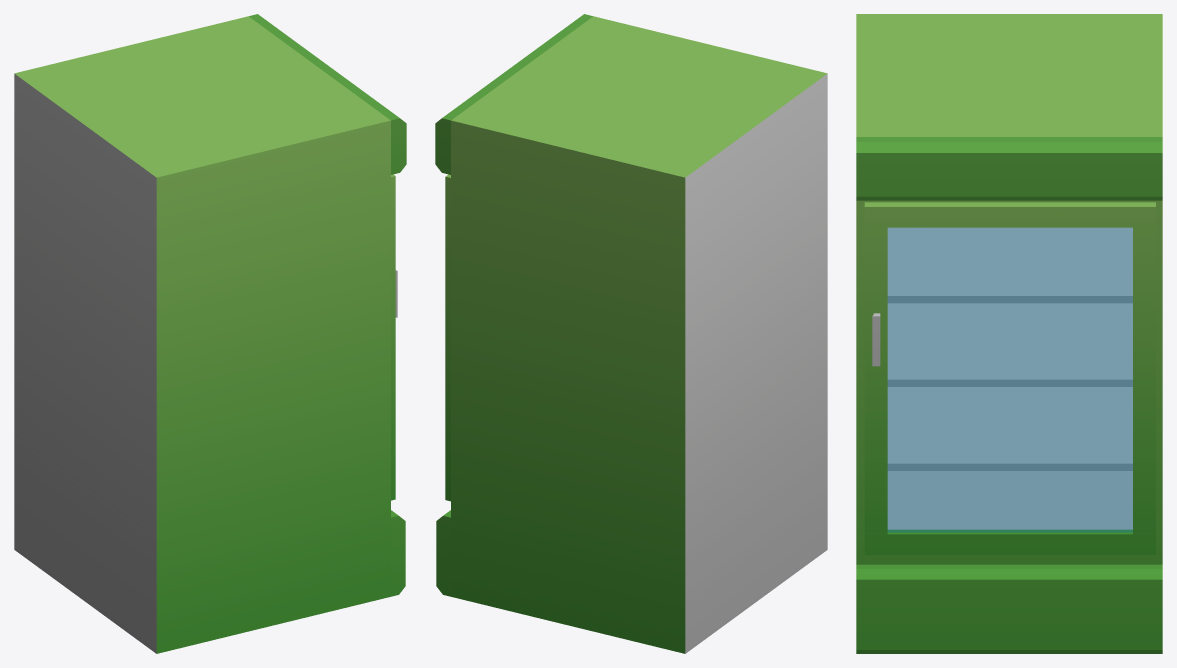
The model's file is fridge_single_green.fbx.
3 views of the same model, side by side, from view 1: azimuth 30°, elevation 25°; view 2: azimuth 150°, elevation 25°; view 3: azimuth 270°, elevation 25° (orthographic). The views are drawn at different scales.
Visible parts, largest first — view 1: fridge_single_green, fridge_door_single_green; view 2: fridge_single_green, fridge_door_single_green; view 3: fridge_single_green, fridge_door_single_green.
Part boxes in pixels (<box>): fridge_single_green: <box>14,14,406,653</box>; fridge_door_single_green: <box>391,174,397,500</box>; fridge_single_green: <box>435,14,827,653</box>; fridge_door_single_green: <box>445,174,450,501</box>; fridge_single_green: <box>856,14,1162,653</box>; fridge_door_single_green: <box>864,202,1155,554</box>.
Size of the model in its own units: 680 by 1238 by 671.
